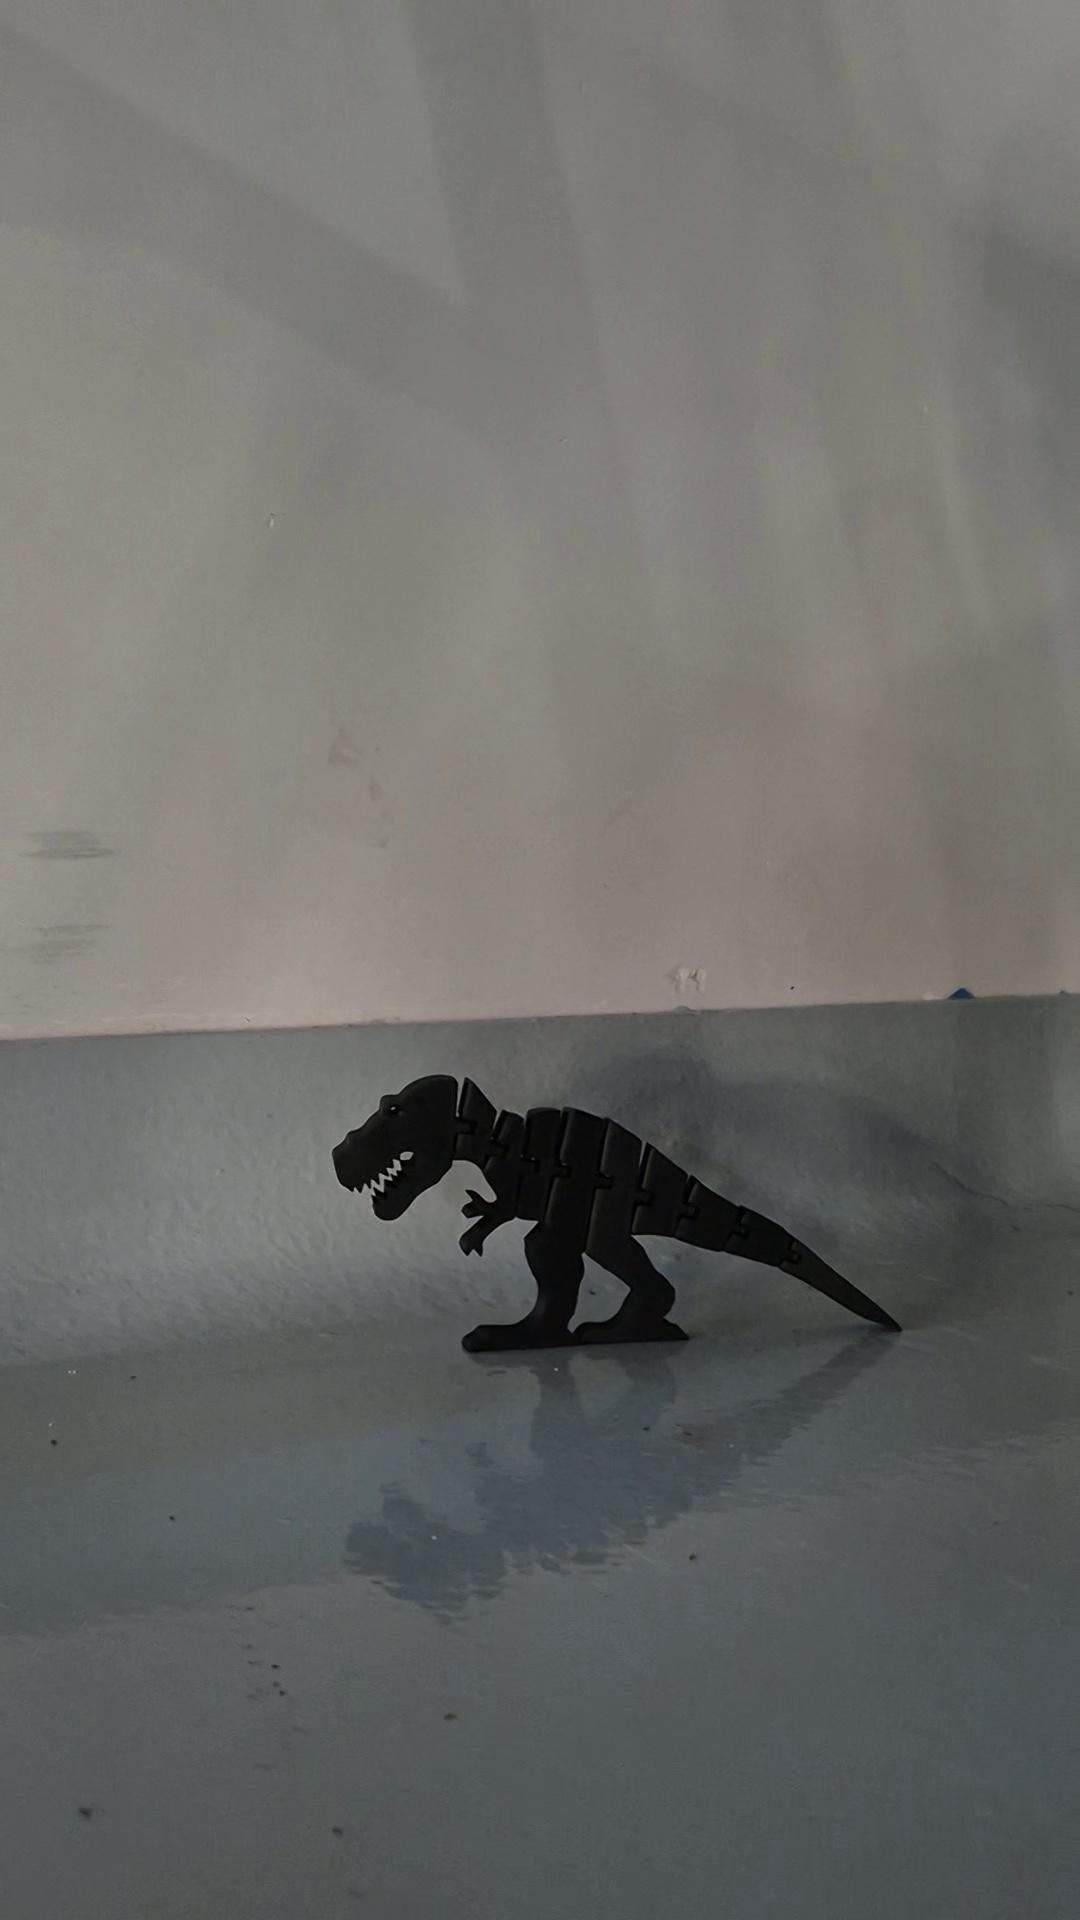dinosaur: (329, 1070, 905, 1357)
